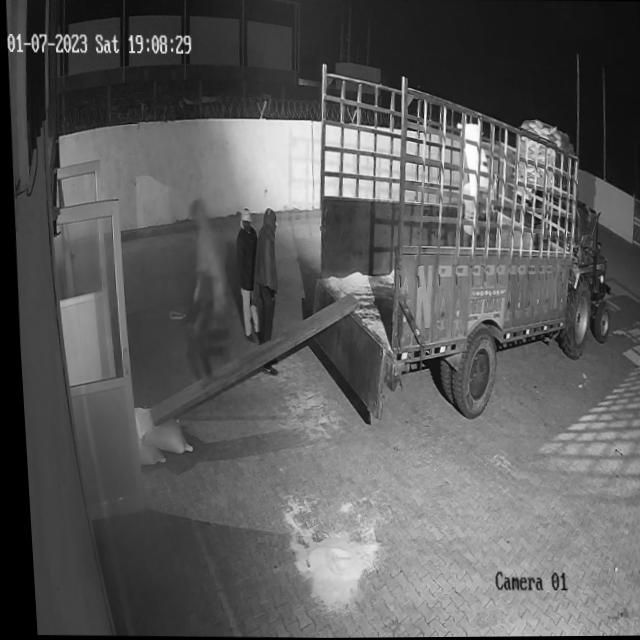sack: (127, 405, 188, 454)
